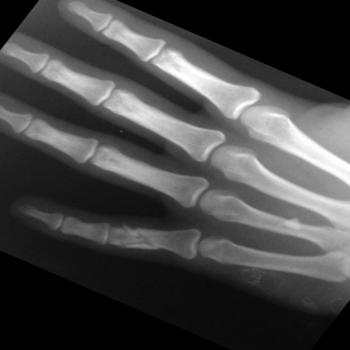Fracture: (100, 220, 156, 260)
